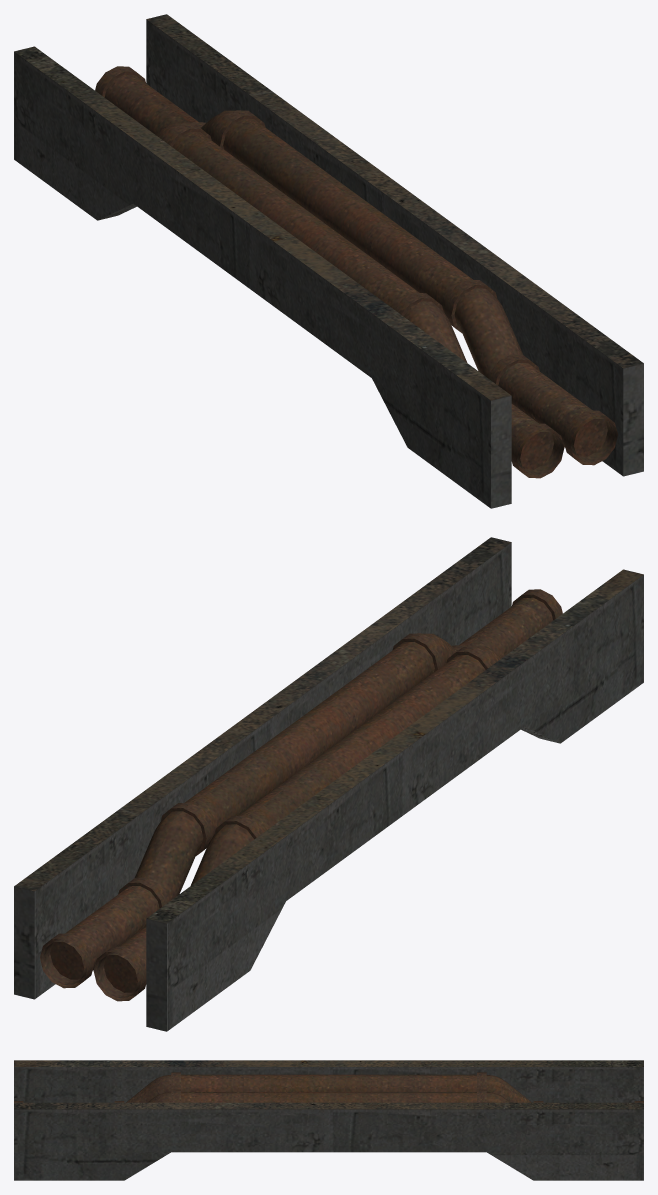
The model's file is beam_rtx_2_pipes.obj.
3 views of the same model, one above another, from view 1: azimuth 30°, elevation 25°; view 2: azimuth 150°, elevation 25°; view 3: azimuth 270°, elevation 25° (orthographic). The views are drawn at different scales.
Visible parts, largest first — view 1: beam_rtx_2_pipes; view 2: beam_rtx_2_pipes; view 3: beam_rtx_2_pipes.
Part boxes in pixels (x1=…): beam_rtx_2_pipes: x1=14, y1=14, x2=643, y2=508; beam_rtx_2_pipes: x1=14, y1=537, x2=643, y2=1031; beam_rtx_2_pipes: x1=14, y1=1060, x2=643, y2=1180.
Bounding box in the file's own units: 0.74 × 0.515 × 4.
